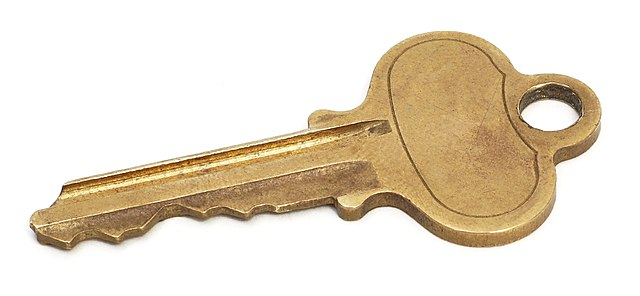key: (22, 35, 600, 269)
